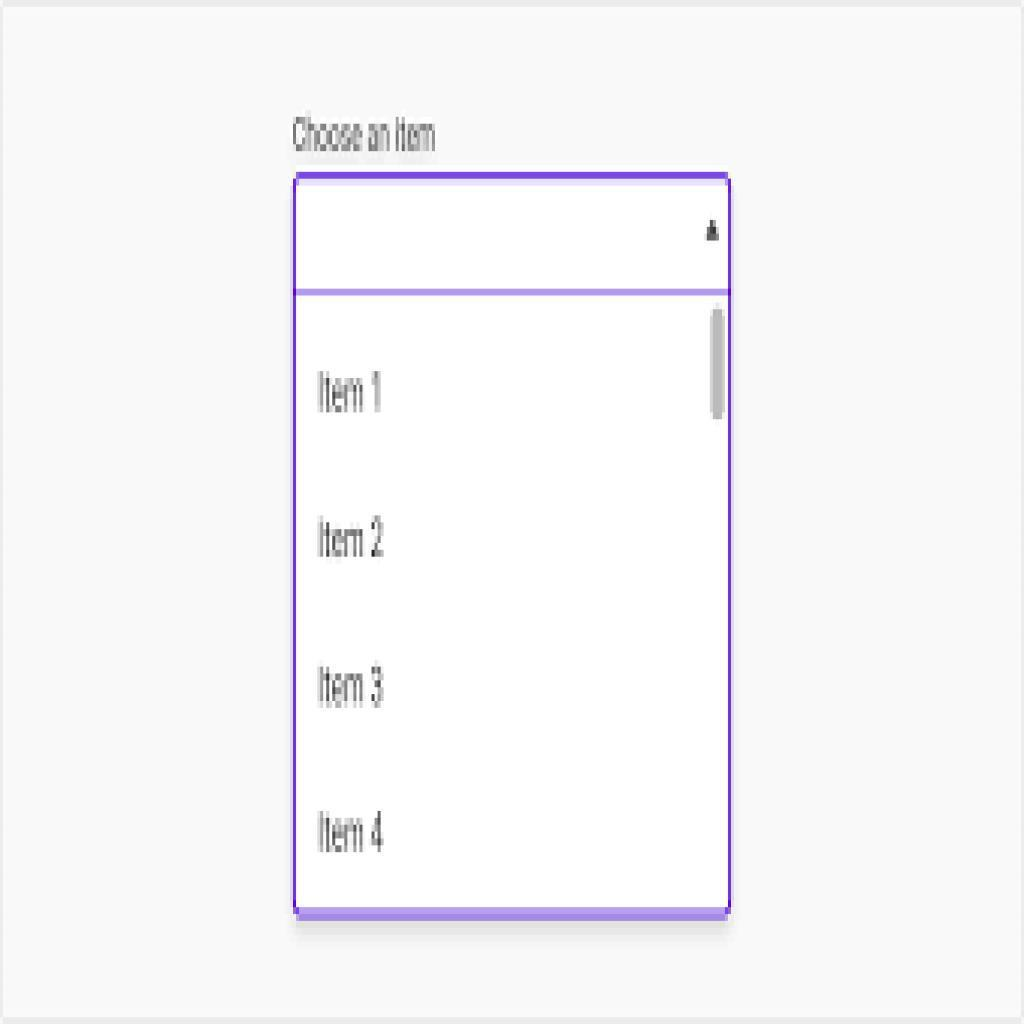dropdown: (297, 176, 729, 290)
label: (290, 111, 440, 156)
